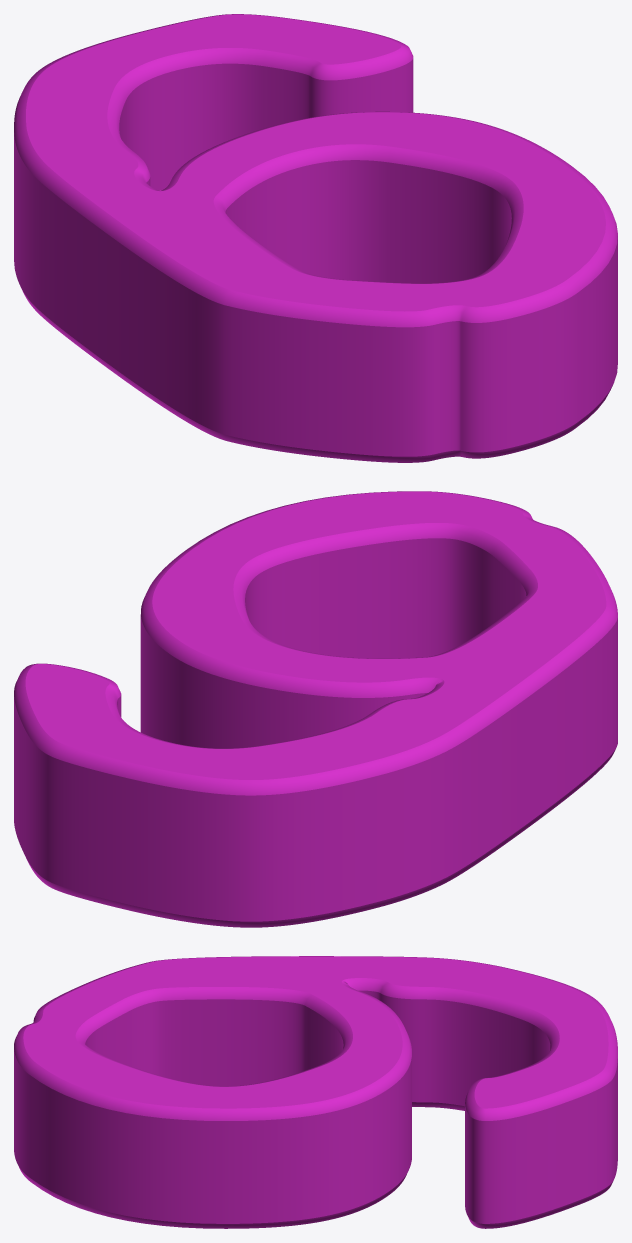
Rendered from Blocky_Number_9.fbx.
3 views of the same model, one above another, from view 1: azimuth 30°, elevation 25°; view 2: azimuth 150°, elevation 25°; view 3: azimuth 270°, elevation 25° (orthographic). The views are drawn at different scales.
Parts seen in each view (by area): view 1: BlockyNumber_9; view 2: BlockyNumber_9; view 3: BlockyNumber_9.
Boxes of the visible parts, x1,y1,x2,y2 form: BlockyNumber_9: (14, 14, 617, 462); BlockyNumber_9: (14, 491, 617, 927); BlockyNumber_9: (14, 956, 617, 1228).
Size of the model in its own units: 0.4008 by 0.14 by 0.6389.
